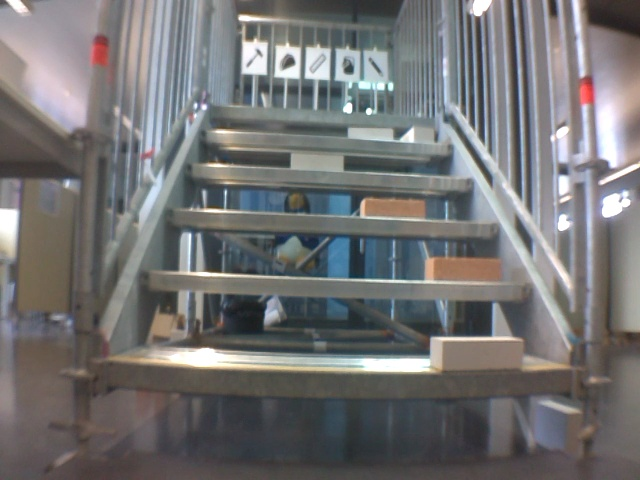brick: (431, 337, 522, 369), (425, 258, 501, 281), (361, 198, 424, 218), (291, 154, 342, 171), (348, 127, 392, 140), (403, 127, 433, 142)
bucket: (339, 53, 357, 78)
edge: (108, 360, 568, 394), (142, 272, 530, 300), (166, 210, 500, 236), (185, 164, 478, 190), (201, 131, 453, 154), (210, 107, 440, 130)
hammer: (245, 47, 264, 71)
pencil: (367, 55, 386, 79)
ruler: (307, 51, 328, 76)
stairs: (77, 5, 614, 453)
steps: (101, 100, 573, 405)
taco: (278, 53, 296, 72)
